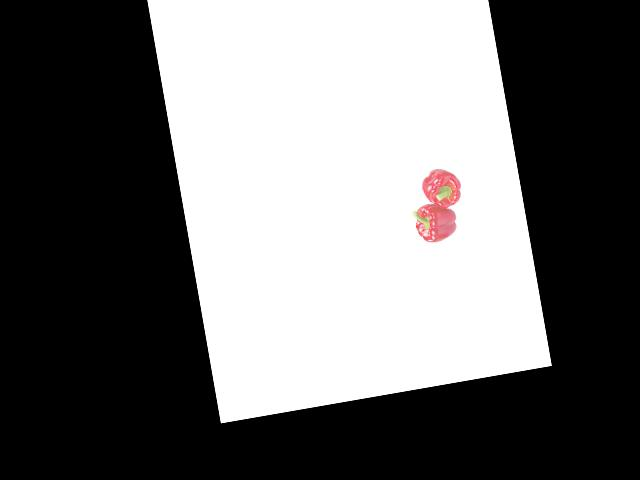bell_pepper: (409, 198, 463, 246)
